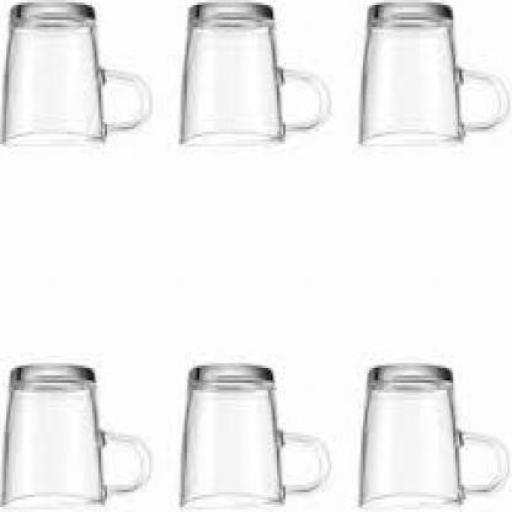glass: (0, 2, 149, 152), (176, 2, 327, 149), (357, 2, 506, 149), (176, 368, 329, 511), (0, 366, 150, 510), (358, 368, 508, 511)
